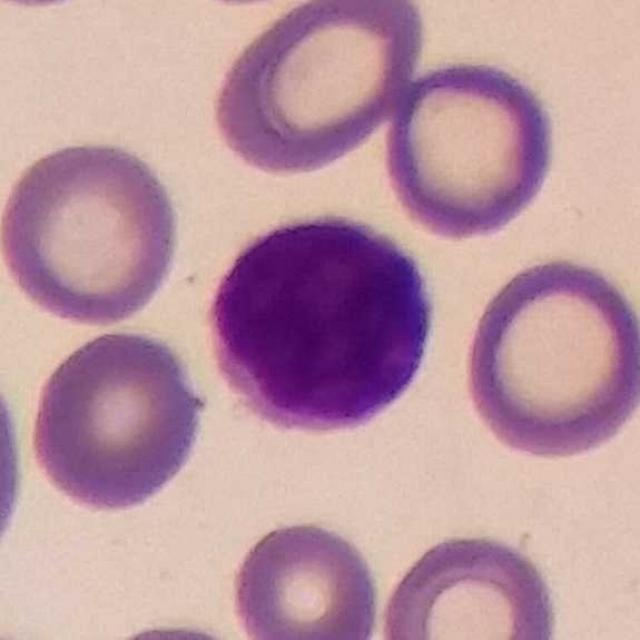Basophil: (196, 200, 447, 446)
Lymphocyte: (197, 199, 449, 445)
RBC: (204, 0, 432, 179), (456, 252, 640, 463), (23, 322, 215, 518), (0, 132, 187, 332), (378, 54, 564, 242), (373, 524, 566, 640), (226, 514, 386, 640)
